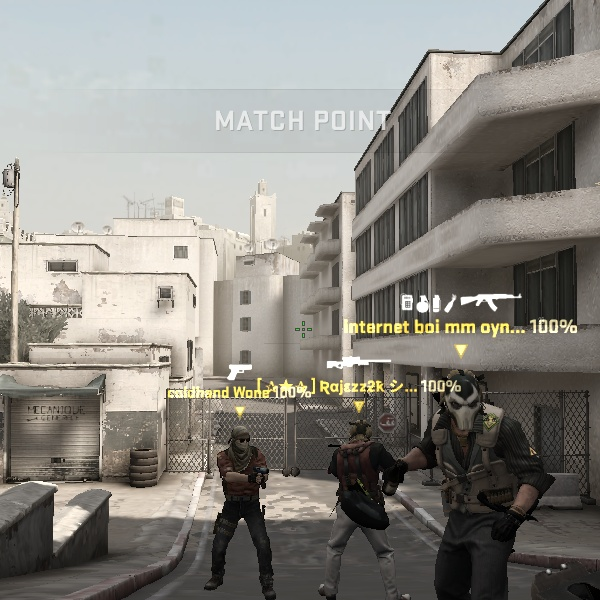t_body: (412, 368, 551, 596), (312, 418, 418, 595), (193, 420, 285, 590)
t_head: (428, 368, 508, 441), (339, 413, 383, 455), (223, 423, 256, 456)
